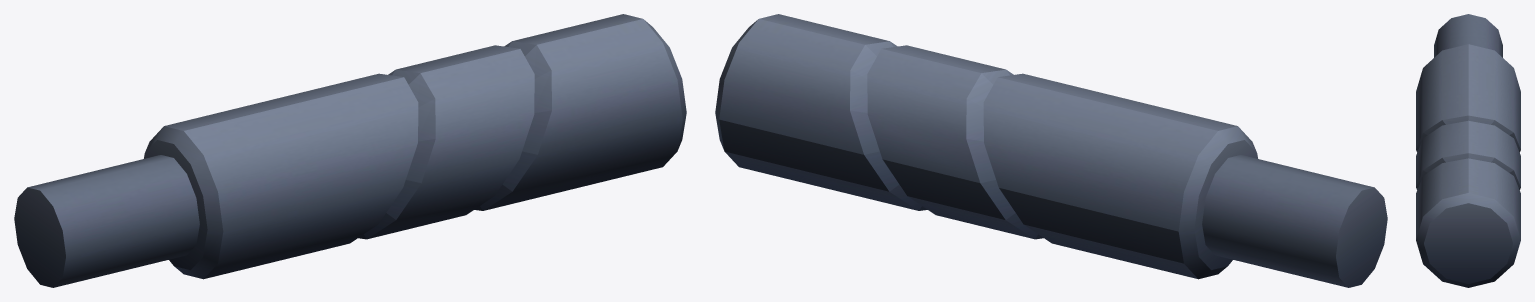
Rendered from Barrel2.FBX.
3 views of the same model, side by side, from view 1: azimuth 30°, elevation 25°; view 2: azimuth 150°, elevation 25°; view 3: azimuth 270°, elevation 25° (orthographic). The views are drawn at different scales.
Parts seen in each view (by area): view 1: Cylinder002; view 2: Cylinder002; view 3: Cylinder002.
Part boxes in pixels (x1,y1,x2,y2): Cylinder002: (14, 14, 686, 287); Cylinder002: (715, 14, 1387, 287); Cylinder002: (1416, 14, 1520, 287).
Size of the model in its own units: 14.25 by 3.19 by 3.19.
